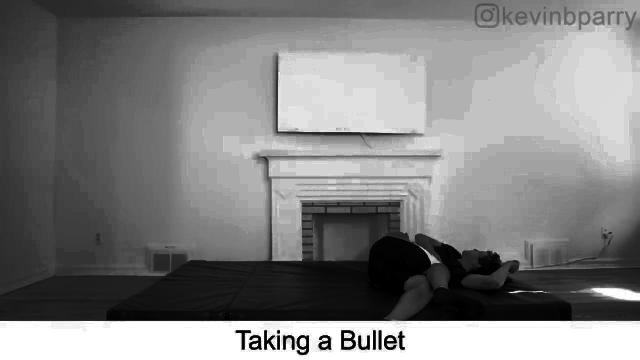jatuh: (352, 217, 534, 317)
